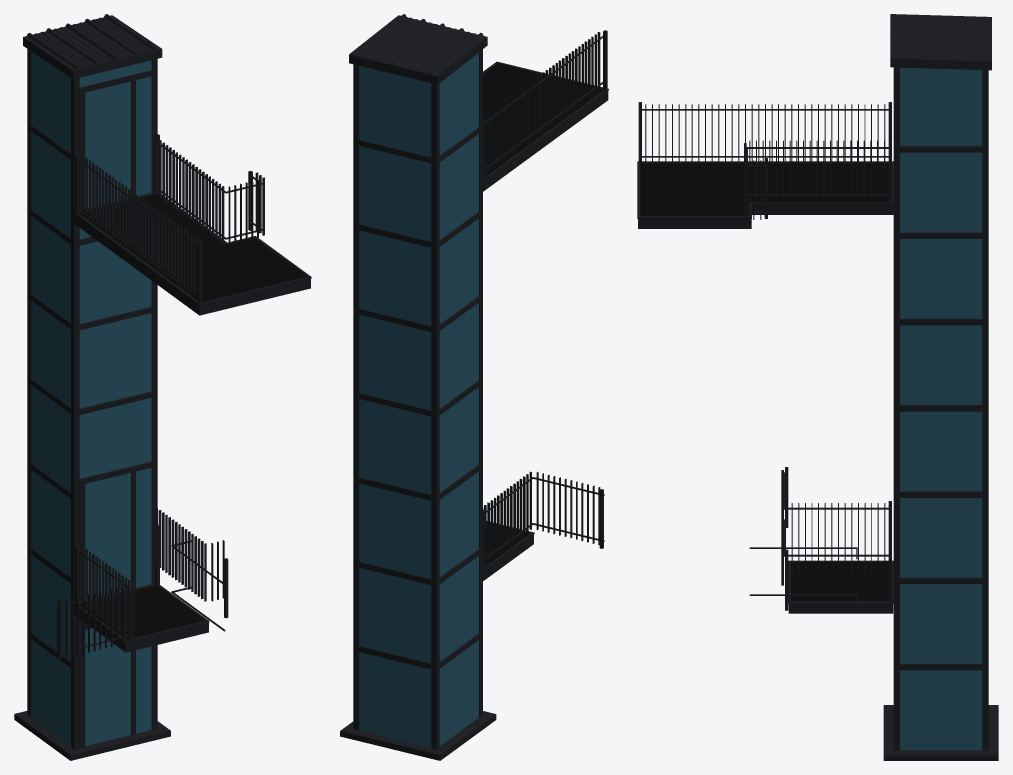
File: External+Elevator.FBX
The picture shows the model from 3 angles, left to right: view 1: azimuth 30°, elevation 25°; view 2: azimuth 150°, elevation 25°; view 3: azimuth 270°, elevation 25°; orthographic projection. The views are drawn at different scales.
Parts seen in each view (by area): view 1: Line058, Rectangle667, Rectangle665, Rectangle664, Rectangle657, Rectangle597, Rectangle658, Rectangle594, Rectangle659, Ascensore, Rectangle599, Rectangle596 (+20 smaller); view 2: Rectangle596, Rectangle639, Rectangle641, Rectangle642, Rectangle643, Rectangle644, Rectangle638, Rectangle640, Rectangle645, Ascensore, Rectangle598, Line058 (+21 smaller); view 3: Line058, Rectangle630, Rectangle633, Rectangle636, Rectangle631, Rectangle632, Rectangle634, Rectangle635, Rectangle637, Rectangle594, Rectangle599, Rectangle598 (+6 smaller).
Part boxes in pixels (x1=…): Line058: x1=78, y1=193, x2=307, y2=301; Rectangle667: x1=85, y1=76, x2=151, y2=208; Rectangle665: x1=85, y1=468, x2=151, y2=598; Rectangle664: x1=85, y1=628, x2=151, y2=745; Rectangle657: x1=79, y1=313, x2=151, y2=408; Rectangle597: x1=71, y1=78, x2=79, y2=749; Rectangle658: x1=79, y1=397, x2=151, y2=478; Rectangle594: x1=74, y1=584, x2=209, y2=652; Rectangle659: x1=79, y1=241, x2=151, y2=323; Ascensore: x1=23, y1=14, x2=161, y2=70; Rectangle599: x1=151, y1=59, x2=157, y2=730; Rectangle596: x1=27, y1=49, x2=31, y2=717; Rectangle596: x1=431, y1=83, x2=439, y2=749; Rectangle639: x1=359, y1=568, x2=431, y2=663; Rectangle641: x1=359, y1=399, x2=431, y2=494; Rectangle642: x1=359, y1=314, x2=431, y2=410; Rectangle643: x1=359, y1=230, x2=431, y2=325; Rectangle644: x1=359, y1=146, x2=431, y2=241; Rectangle638: x1=359, y1=652, x2=431, y2=747; Rectangle640: x1=359, y1=483, x2=431, y2=578; Rectangle645: x1=359, y1=66, x2=431, y2=157; Ascensore: x1=349, y1=14, x2=486, y2=76; Rectangle598: x1=353, y1=64, x2=359, y2=730; Line058: x1=483, y1=63, x2=603, y2=176; Line058: x1=640, y1=162, x2=888, y2=215; Rectangle630: x1=900, y1=670, x2=982, y2=750; Rectangle633: x1=900, y1=411, x2=982, y2=491; Rectangle636: x1=900, y1=152, x2=982, y2=232; Rectangle631: x1=900, y1=584, x2=982, y2=663; Rectangle632: x1=900, y1=498, x2=982, y2=577; Rectangle634: x1=900, y1=325, x2=982, y2=404; Rectangle635: x1=900, y1=239, x2=982, y2=318; Rectangle637: x1=900, y1=67, x2=982, y2=145; Rectangle594: x1=788, y1=560, x2=893, y2=613; Rectangle599: x1=893, y1=67, x2=899, y2=750; Rectangle598: x1=982, y1=70, x2=988, y2=750.
Bounding box in the file's own units: 335 × 1180 × 550.
